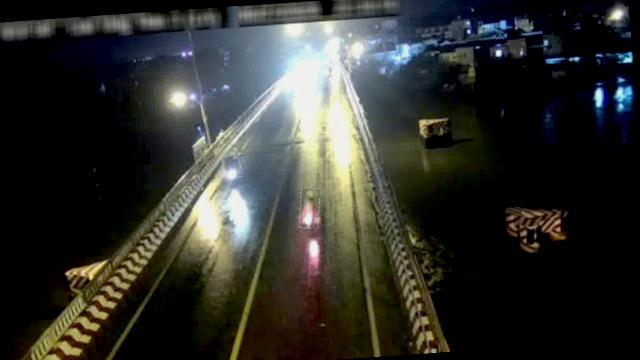Bike: (298, 187, 320, 229), (222, 154, 242, 178)
